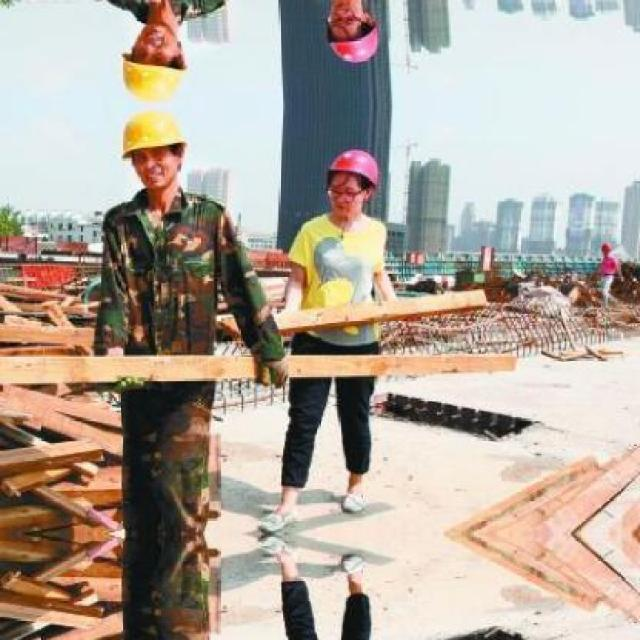helmet: (122, 110, 186, 185), (122, 24, 186, 99), (328, 0, 378, 66), (328, 144, 377, 210), (598, 238, 612, 255)
